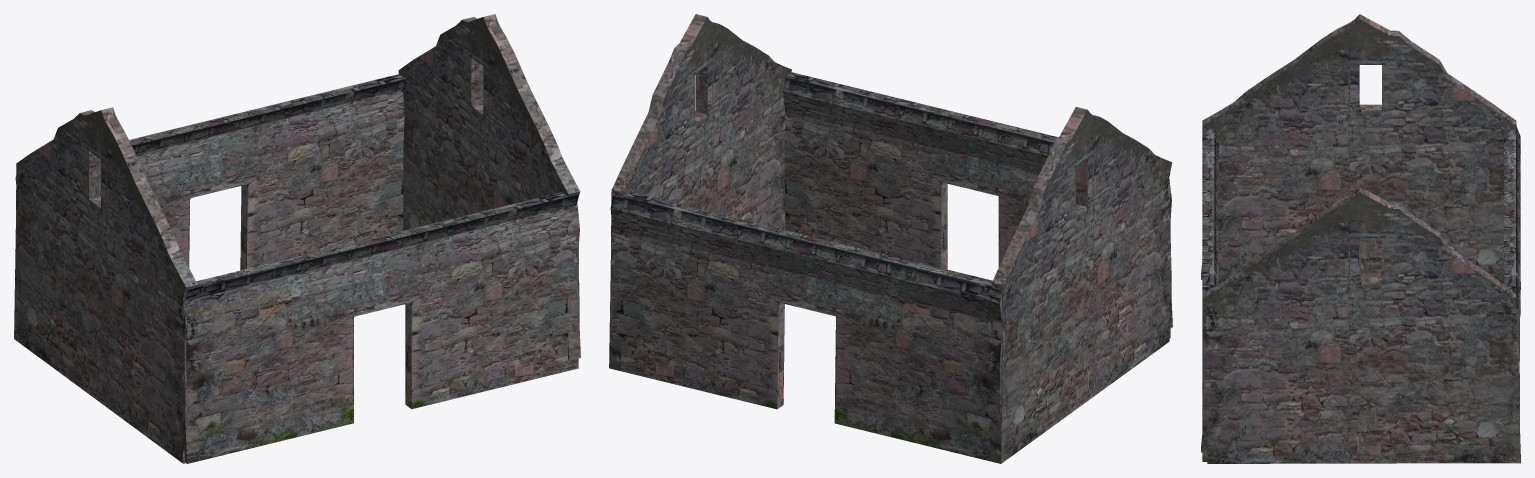
Rendered from ruin.glb.
The picture shows the model from 3 angles, left to right: view 1: azimuth 30°, elevation 25°; view 2: azimuth 150°, elevation 25°; view 3: azimuth 270°, elevation 25°; orthographic projection. The views are drawn at different scales.
Visible parts, largest first — view 1: gable.002_0; view 2: gable.002_0; view 3: gable.002_0.
Boxes of the visible parts, x1,y1,x2,y2 form: gable.002_0: (14, 14, 580, 463); gable.002_0: (609, 14, 1172, 463); gable.002_0: (1201, 14, 1520, 463).
Bounding box in the file's own units: 2.35 × 1.67 × 1.78.
Materials: 2 (2 with a texture image).
